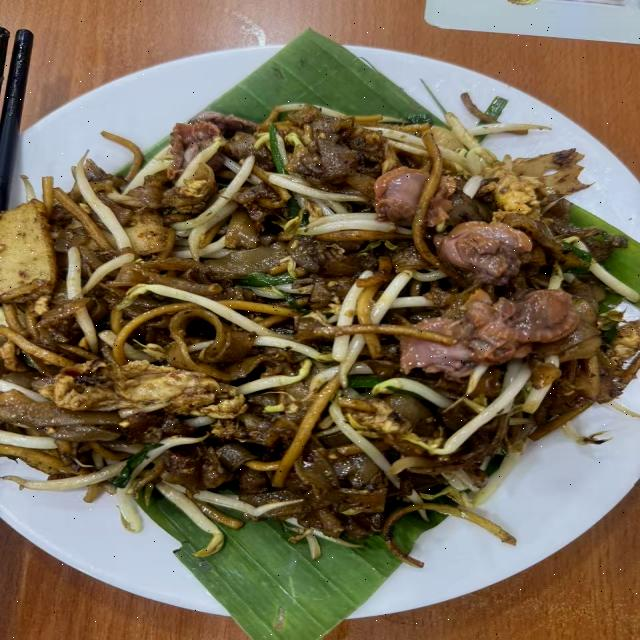Char Kway Teow: (35, 83, 602, 527)
